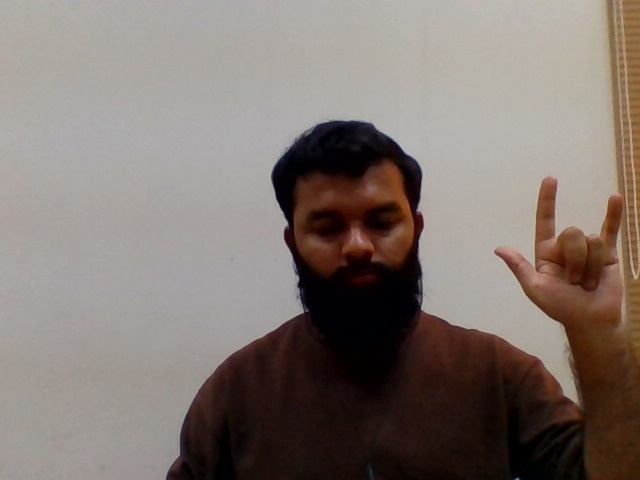I Love you: (491, 164, 640, 336)
